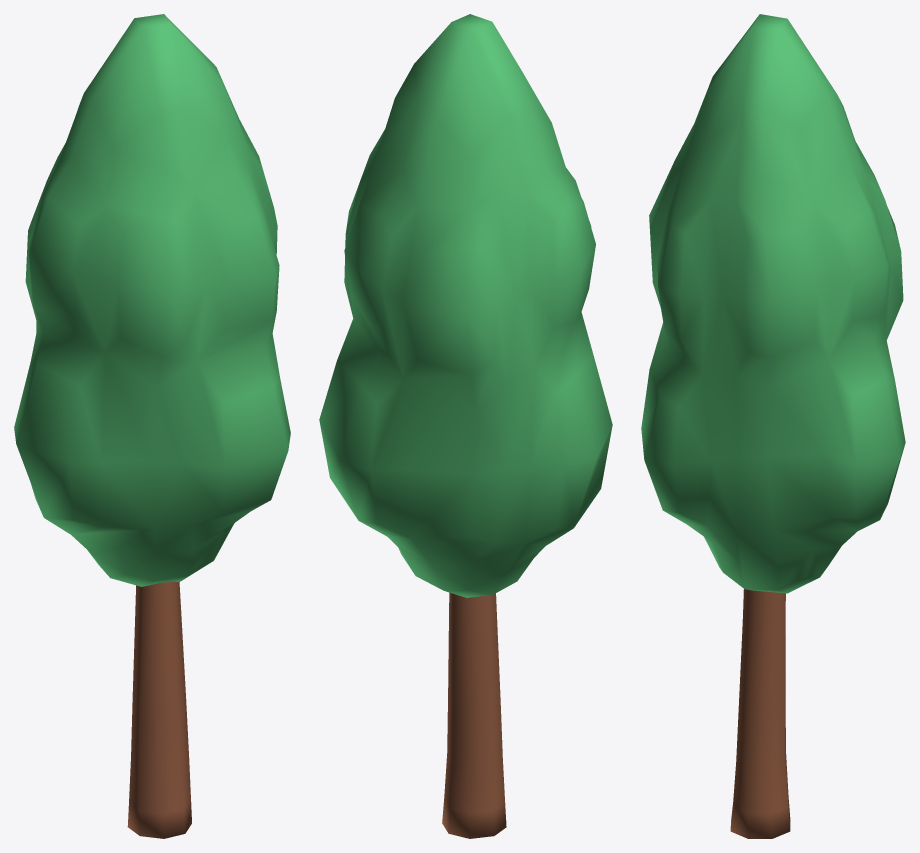
File: Tree_E_02_LOD2.gltf
3 renders of one model, left to right at view 1: azimuth 30°, elevation 25°; view 2: azimuth 150°, elevation 25°; view 3: azimuth 270°, elevation 25°, orthographic.
Visible parts, largest first — view 1: Tree_E_02_LOD2_Cylinder.662; view 2: Tree_E_02_LOD2_Cylinder.662; view 3: Tree_E_02_LOD2_Cylinder.662.
Boxes of the visible parts, left/top/right/bottom form: Tree_E_02_LOD2_Cylinder.662: left=14, top=14, right=290, bottom=838; Tree_E_02_LOD2_Cylinder.662: left=319, top=14, right=612, bottom=838; Tree_E_02_LOD2_Cylinder.662: left=641, top=14, right=905, bottom=838.
Bounding box in the file's own units: 5.3 × 16.24 × 4.81.
Materials: 1 (1 with a texture image).
